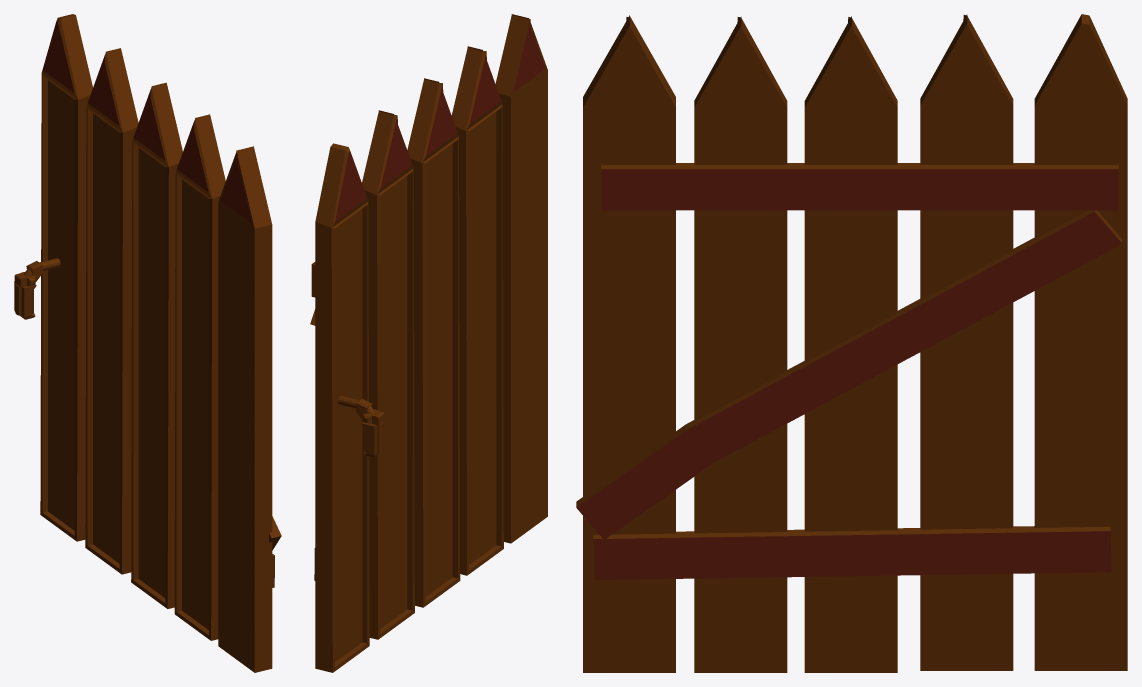
Rendered from Furtka z klamką.fbx.
The picture shows the model from 3 angles, left to right: view 1: azimuth 30°, elevation 25°; view 2: azimuth 150°, elevation 25°; view 3: azimuth 270°, elevation 25°; orthographic projection. The views are drawn at different scales.
Visible parts, largest first — view 1: Cube; view 2: Cube; view 3: Cube.
Part boxes in pixels (x1,y1,x2,y2): Cube: [14, 14, 281, 672]; Cube: [310, 14, 547, 672]; Cube: [576, 14, 1127, 672].
Size of the model in its own units: 105 by 831 by 639.
